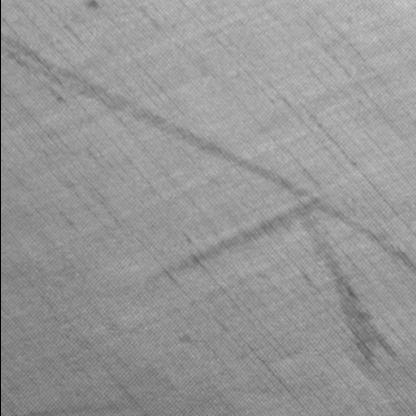oil spot: (1, 31, 415, 282), (142, 195, 322, 285), (296, 212, 400, 364)
